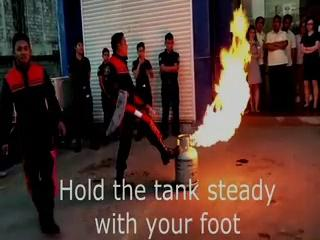Fire: (176, 27, 260, 160)
